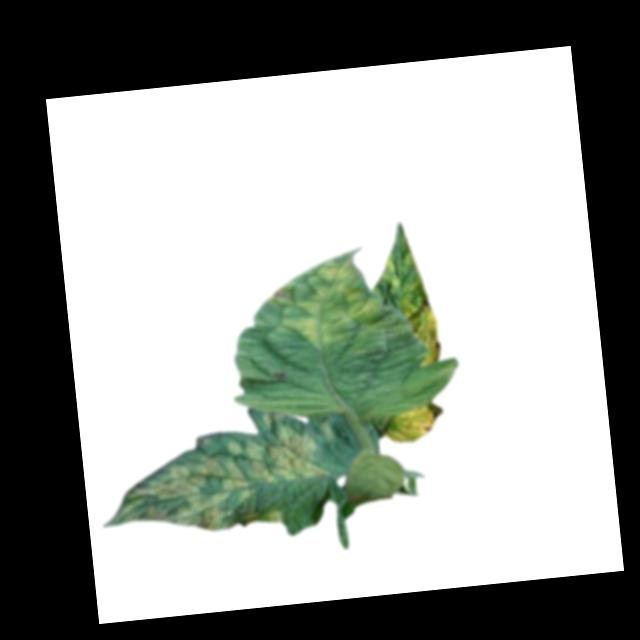Leaf_Mold: (92, 409, 324, 544), (269, 250, 385, 350), (402, 296, 445, 370), (381, 399, 444, 444)
